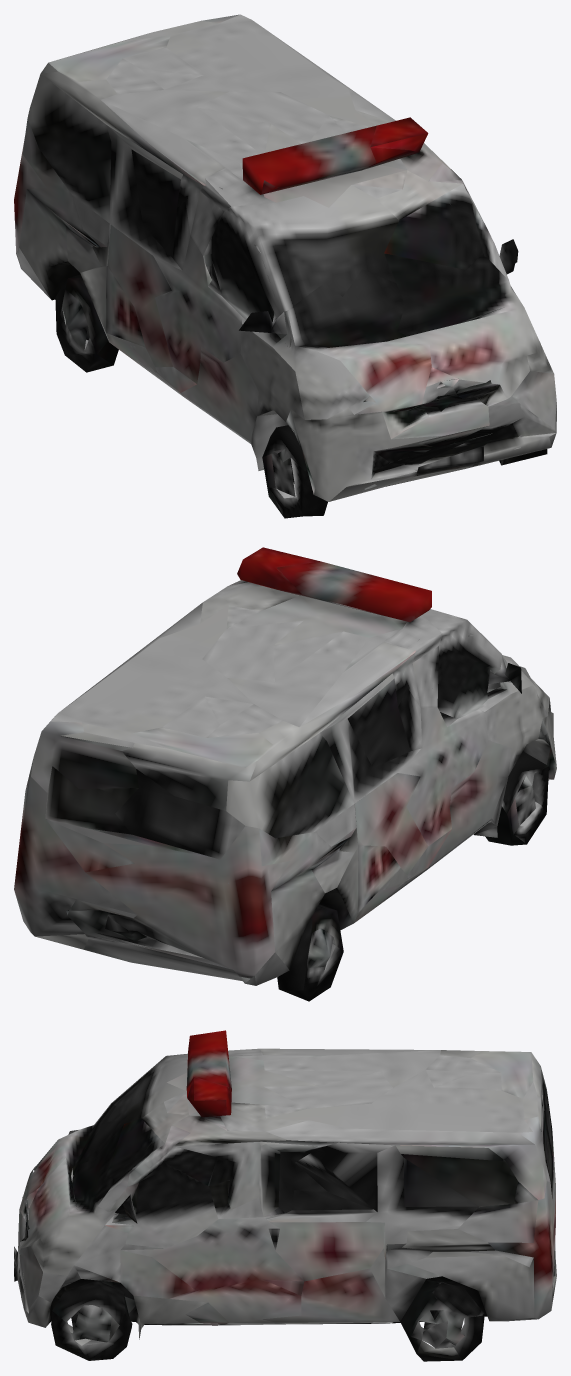
Rendered from ambulance_lod2.glb.
3 renders of one model, top to bottom at view 1: azimuth 30°, elevation 25°; view 2: azimuth 150°, elevation 25°; view 3: azimuth 270°, elevation 25°, orthographic. The views are drawn at different scales.
Visible parts, largest first — view 1: tripo_node_62105a6e; view 2: tripo_node_62105a6e; view 3: tripo_node_62105a6e.
Boxes of the visible parts, left/top/right/bottom form: tripo_node_62105a6e: left=14, top=14, right=556, bottom=518; tripo_node_62105a6e: left=14, top=547, right=556, bottom=1001; tripo_node_62105a6e: left=14, top=1030, right=556, bottom=1361.
Bounding box in the file's own units: 50.4 × 50.85 × 99.87.
Materials: 1 (1 with a texture image).
